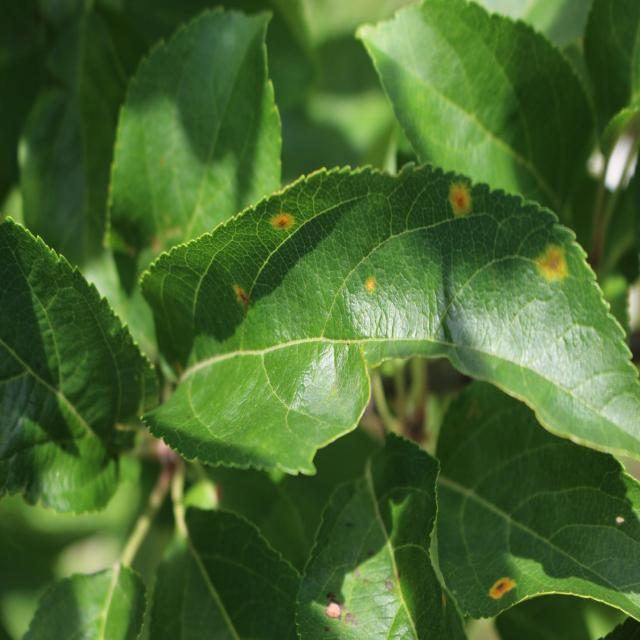Rust: (469, 550, 528, 632), (524, 227, 577, 300), (210, 265, 265, 330), (442, 160, 488, 232), (353, 262, 389, 316), (261, 204, 308, 237)
